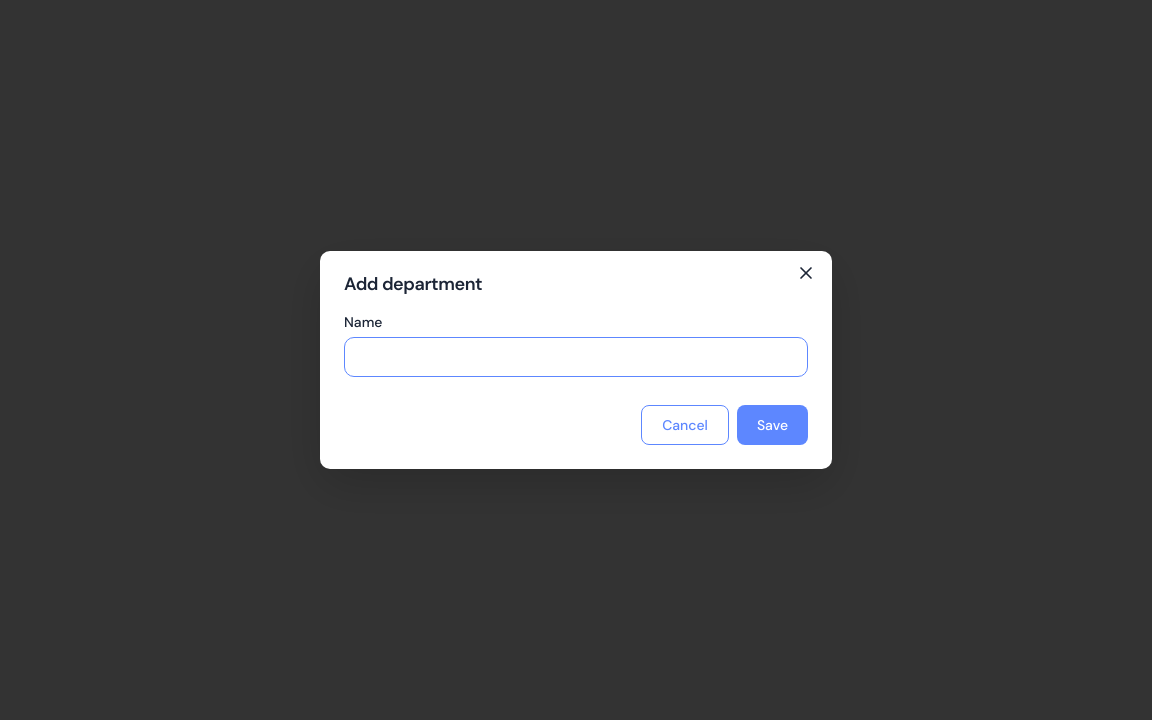
Test: EntityForm › shows server validation errors next to the field
Type "Accounting" into the field labelled "Name" at (576, 357), box 344,337 -> 808,377
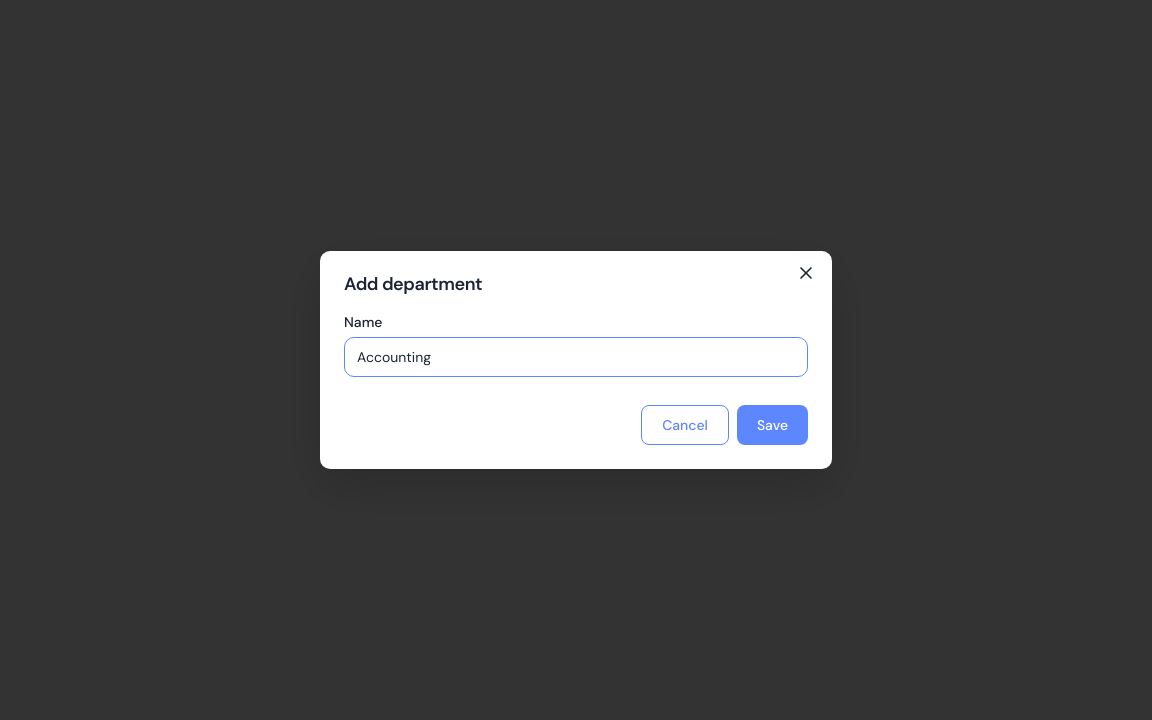
Click the button "Save" at (772, 425), box 737,405 -> 808,445
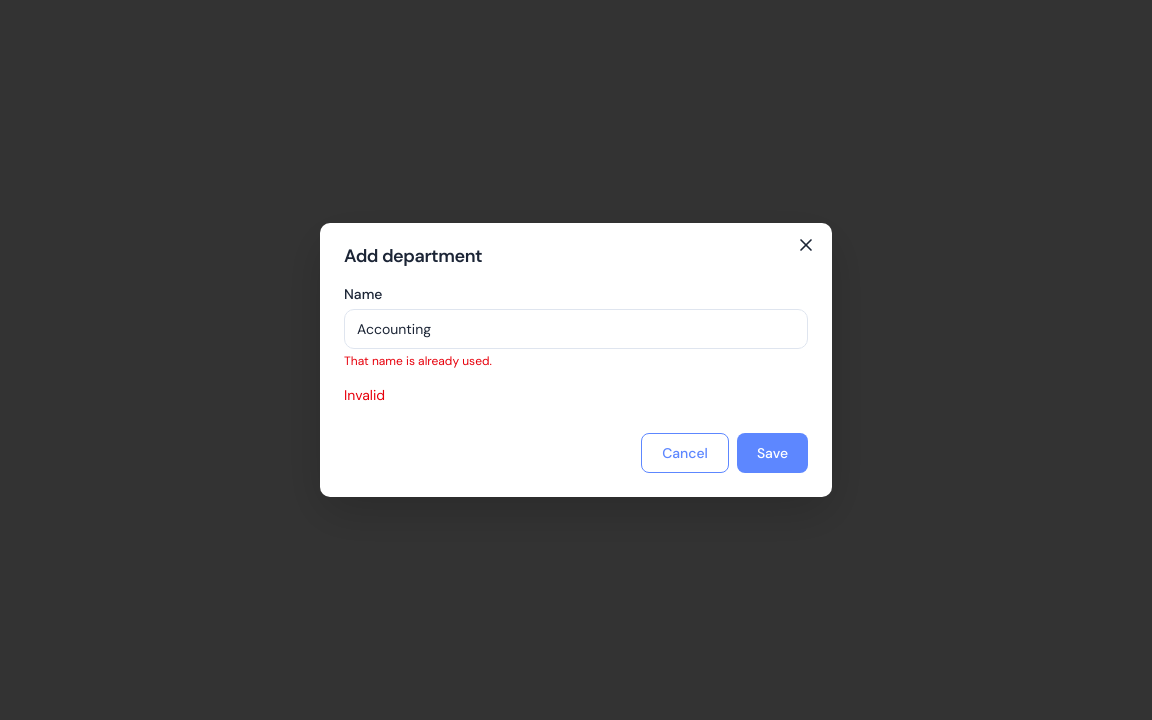
Now the text "That name is already used." is shown, box 344,353 -> 492,369
